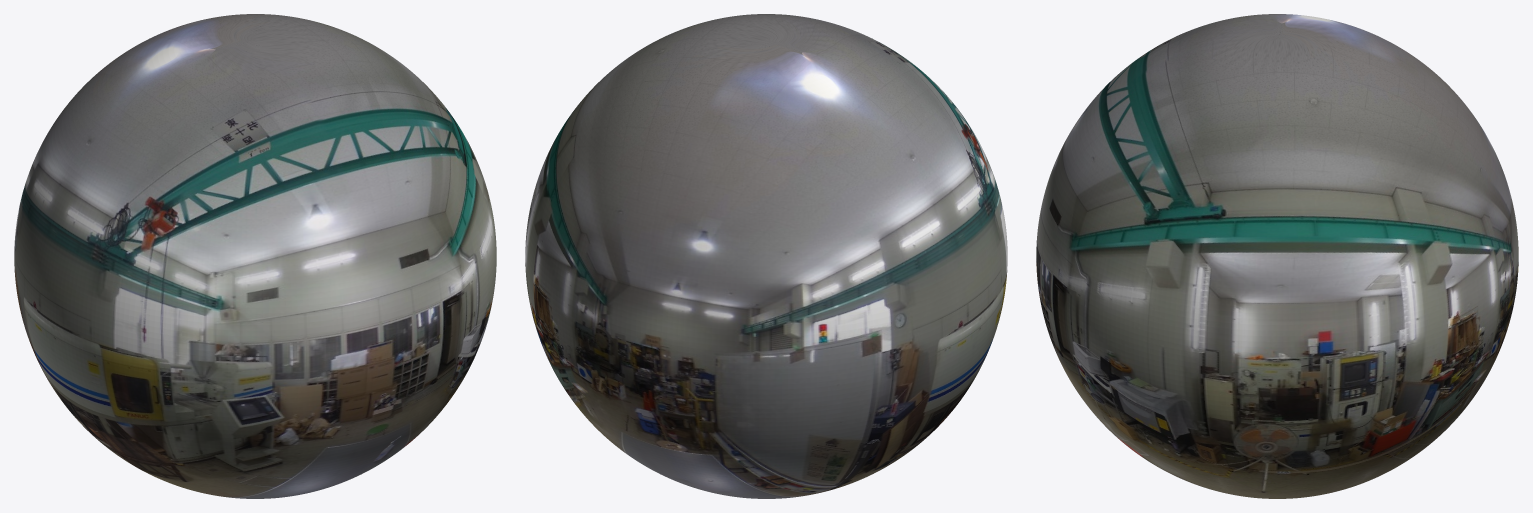
The model's file is kousakusitu.fbx.
3 views of the same model, side by side, from view 1: azimuth 30°, elevation 25°; view 2: azimuth 150°, elevation 25°; view 3: azimuth 270°, elevation 25° (orthographic).
Visible parts, largest first — view 1: 球; view 2: 球; view 3: 球.
Part boxes in pixels (x1=…): 球: x1=14, y1=14, x2=496, y2=498; 球: x1=525, y1=14, x2=1007, y2=498; 球: x1=1036, y1=14, x2=1518, y2=498.
Bounding box in the file's own units: 197 × 196 × 197.
Materials: 1 (1 with a texture image).
